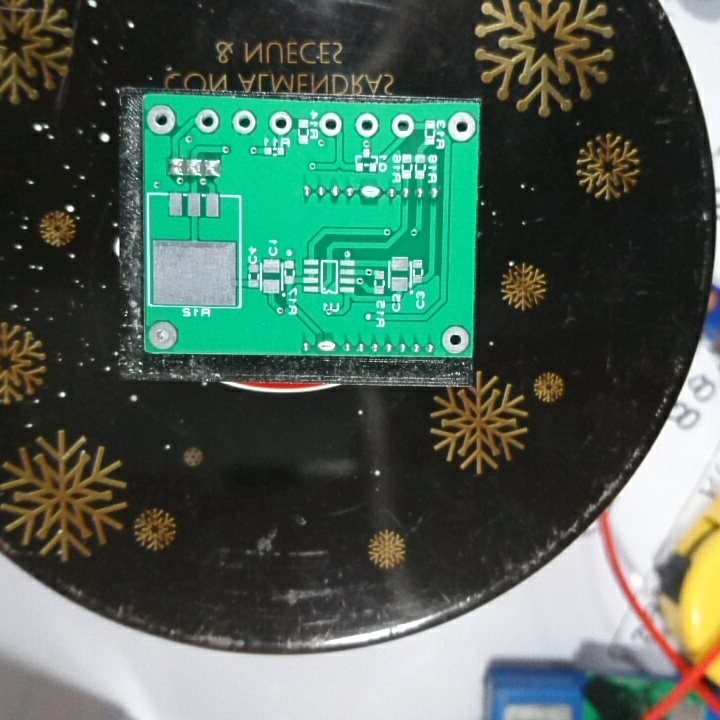F: (145, 319, 181, 351), (445, 111, 477, 144), (145, 106, 177, 135), (316, 111, 346, 140), (441, 323, 468, 355), (353, 111, 383, 138), (230, 109, 259, 136), (390, 112, 416, 140), (267, 109, 293, 137), (193, 109, 221, 135)
P: (358, 182, 384, 204), (315, 338, 338, 354)
